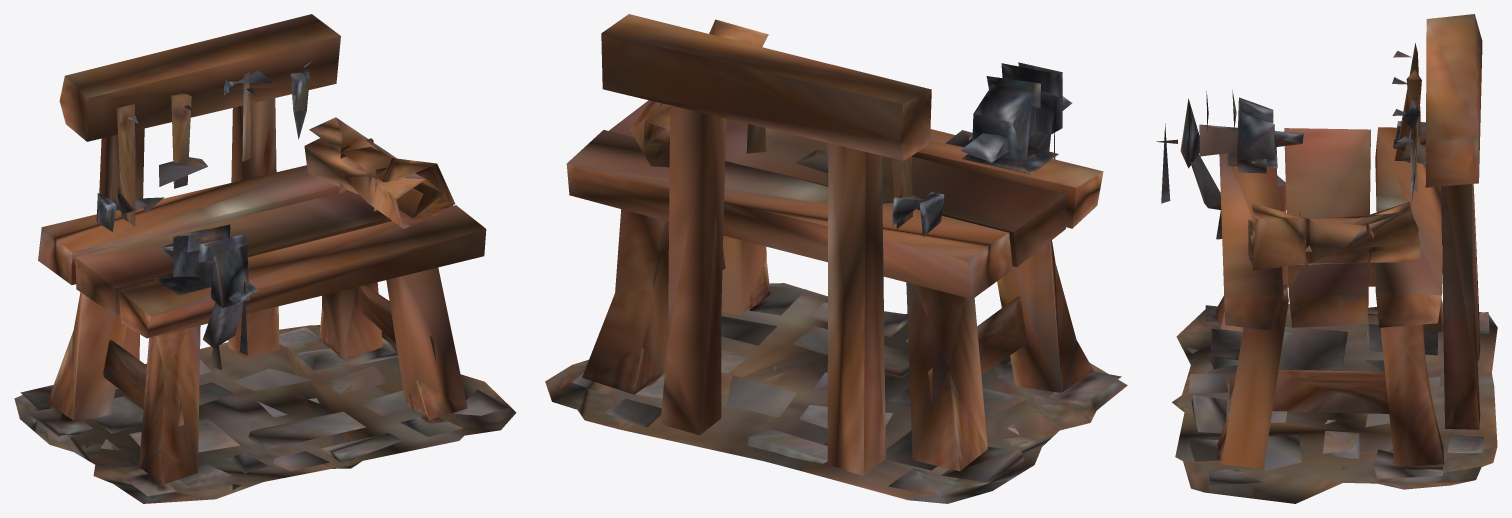
Rendered from at-etabli-semis.glb.
3 renders of one model, left to right at view 1: azimuth 30°, elevation 25°; view 2: azimuth 150°, elevation 25°; view 3: azimuth 270°, elevation 25°, orthographic. The views are drawn at different scales.
Parts seen in each view (by area): view 1: at-etabli-semis; view 2: at-etabli-semis; view 3: at-etabli-semis.
Boxes of the visible parts, <box> form: at-etabli-semis: <box>14,14,516,503</box>; at-etabli-semis: <box>545,14,1127,503</box>; at-etabli-semis: <box>1156,14,1497,503</box>.
Bounding box in the file's own units: 0.9677 × 0.7586 × 0.7148.
1 material, 1 textured.
